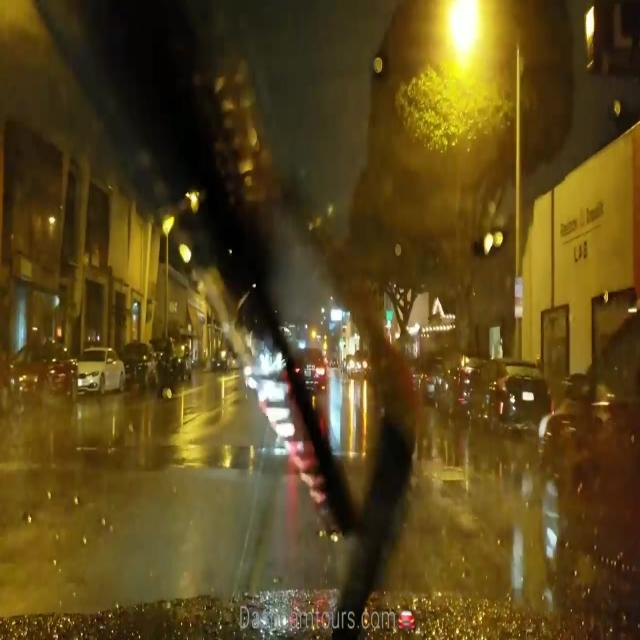Car: (459, 358, 548, 431), (2, 346, 70, 406), (73, 343, 122, 395), (294, 349, 325, 393)
